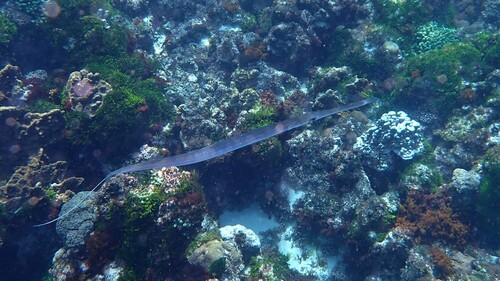Fistularia commersonii: (32, 93, 379, 228)
